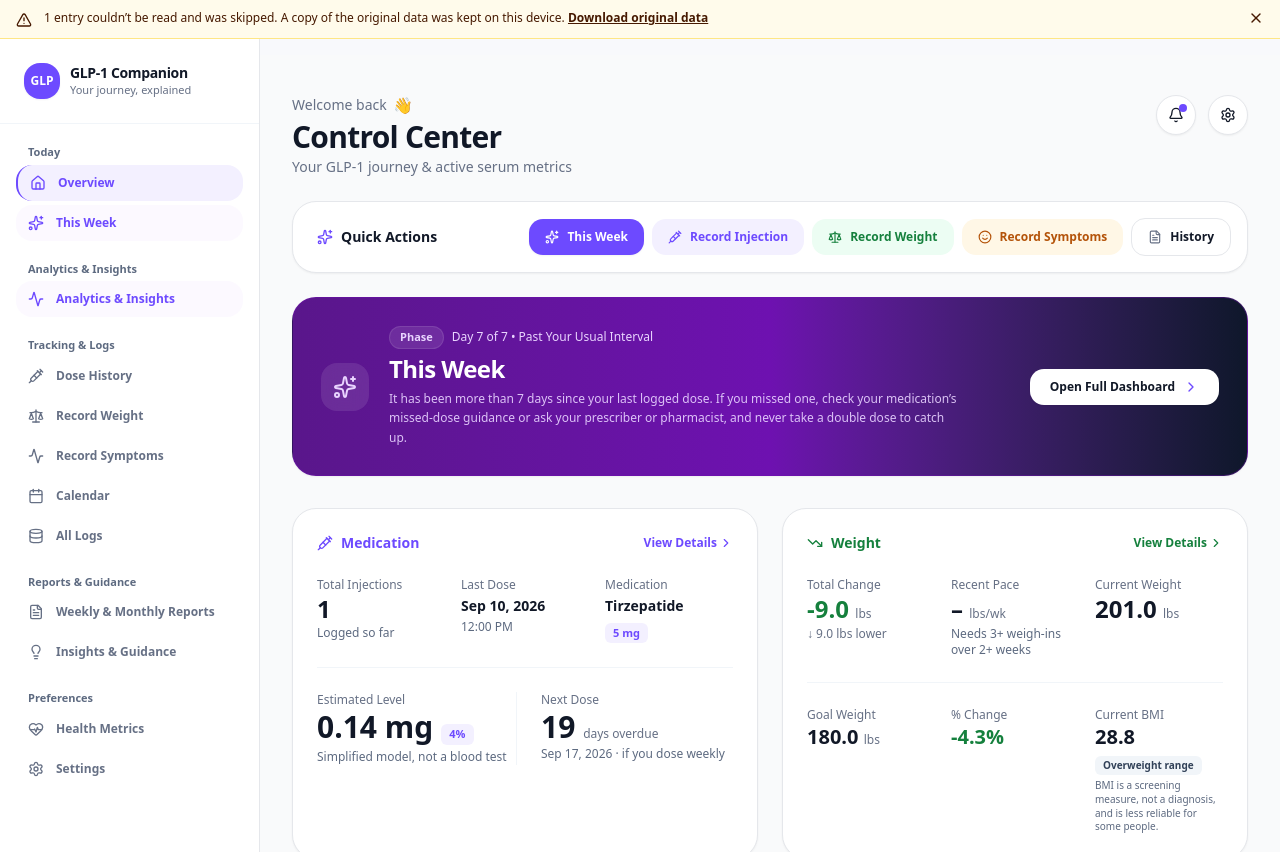
F2/F12: unreadable stored rows never crash the app › the notice is dismissible
Click the button named "dismiss notice" at x=1256, y=18, box [1248,10,1264,26]
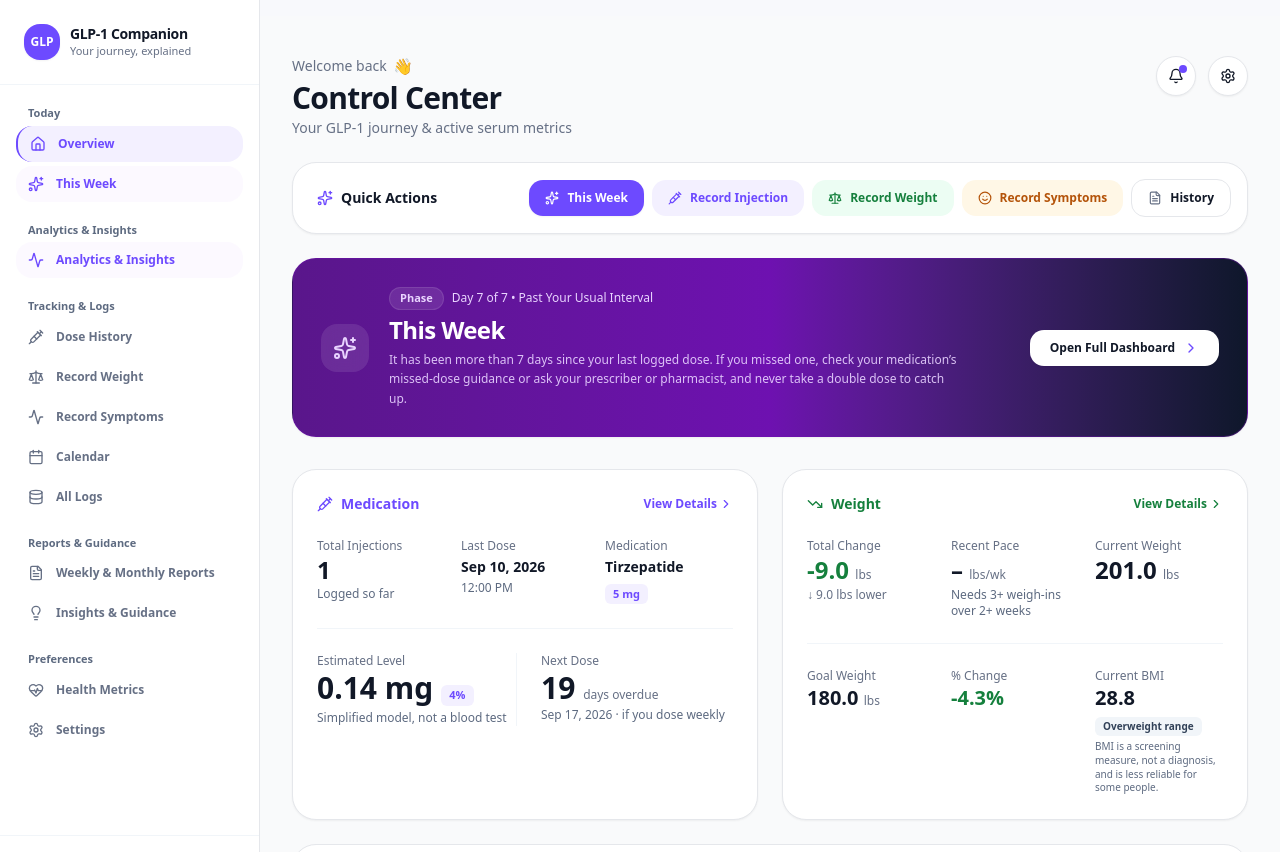
Result: the text "couldn’t be read" is gone
